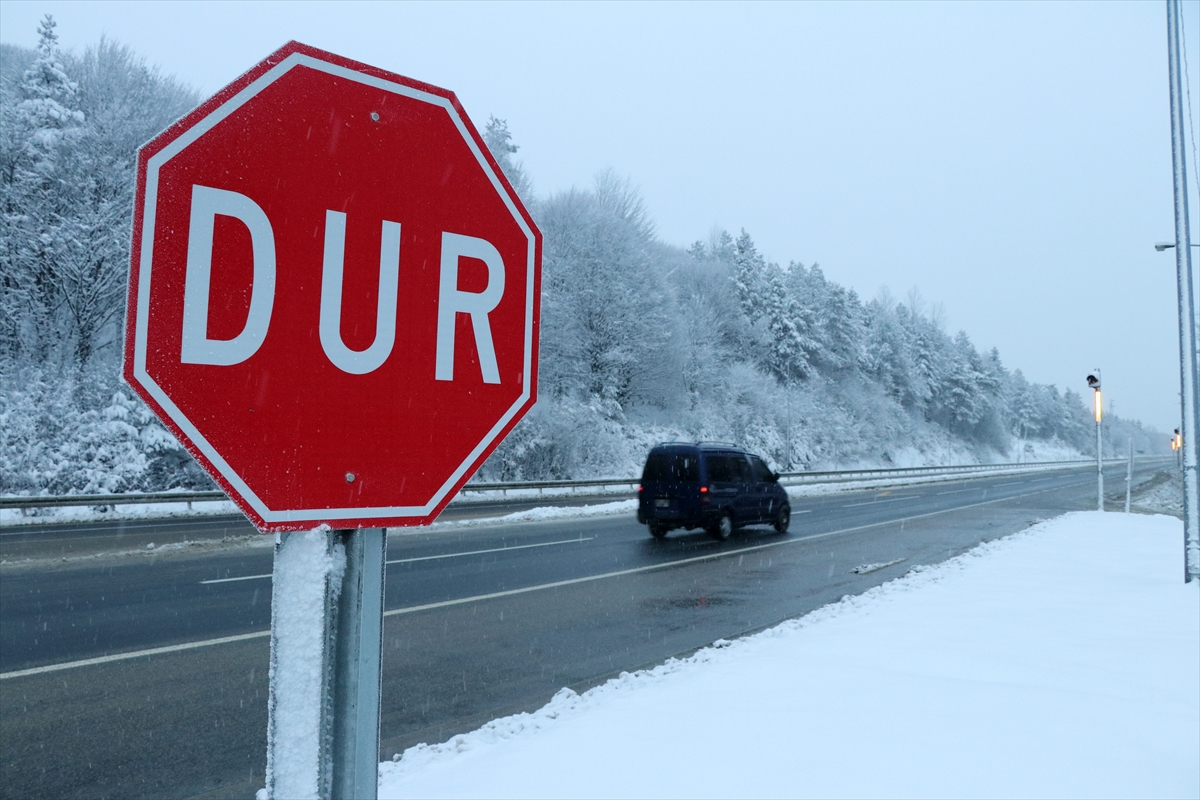dur: (126, 37, 538, 531)
otomobil: (605, 425, 825, 586)
